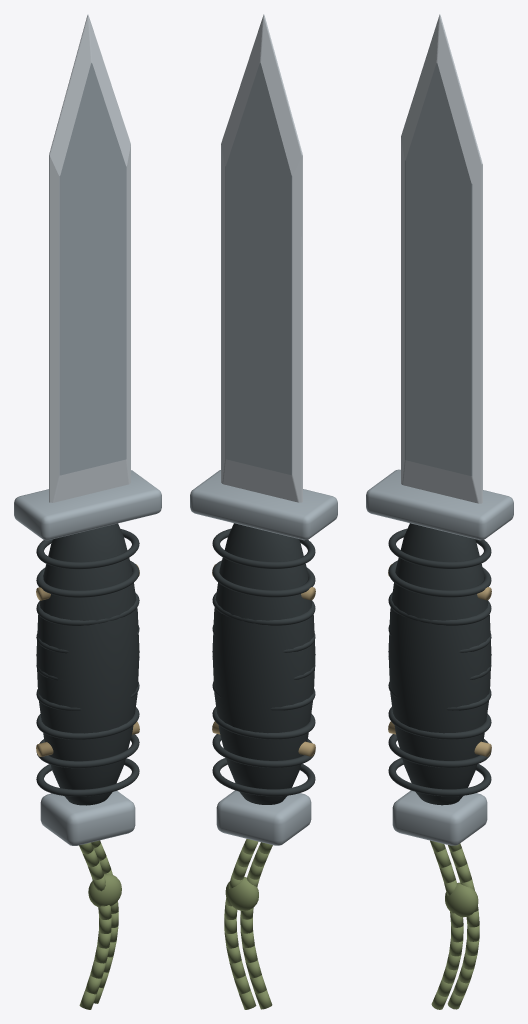
File: knife_04.glb
The picture shows the model from 3 angles, left to right: view 1: azimuth 30°, elevation 25°; view 2: azimuth 150°, elevation 25°; view 3: azimuth 330°, elevation 25°; orthographic projection.
Parts seen in each view (by area): view 1: Blade, Ergonomic handle, Full tang hand guard, Solid tang pommel, Raised nonslip grip rib, Raised nonslip grip rib.008, Raised nonslip grip rib.007, Raised nonslip grip rib.001, Raised nonslip grip rib.002, Lanyard knot, Raised nonslip grip rib.006; view 2: Blade, Ergonomic handle, Full tang hand guard, Solid tang pommel, Raised nonslip grip rib.008, Raised nonslip grip rib, Raised nonslip grip rib.007, Raised nonslip grip rib.001, Raised nonslip grip rib.002, Lanyard knot, Raised nonslip grip rib.006; view 3: Blade, Ergonomic handle, Full tang hand guard, Solid tang pommel, Raised nonslip grip rib.008, Raised nonslip grip rib, Raised nonslip grip rib.007, Raised nonslip grip rib.001, Lanyard knot, Raised nonslip grip rib.002, Raised nonslip grip rib.006.
Part boxes in pixels (x1,y1,x2,y2): Blade: (49, 14, 130, 502); Ergonomic handle: (36, 523, 139, 805); Full tang hand guard: (14, 470, 161, 540); Solid tang pommel: (40, 791, 135, 845); Raised nonslip grip rib: (36, 758, 139, 796); Raised nonslip grip rib.008: (36, 529, 139, 569); Raised nonslip grip rib.007: (36, 560, 139, 597); Raised nonslip grip rib.001: (36, 734, 139, 768); Raised nonslip grip rib.002: (36, 707, 139, 739); Lanyard knot: (88, 874, 121, 907); Raised nonslip grip rib.006: (36, 592, 139, 625); Blade: (221, 14, 302, 502); Ergonomic handle: (212, 523, 315, 804); Full tang hand guard: (190, 470, 337, 540); Solid tang pommel: (216, 790, 311, 845); Raised nonslip grip rib.008: (212, 528, 315, 568); Raised nonslip grip rib: (212, 758, 315, 796); Raised nonslip grip rib.007: (212, 560, 315, 597); Raised nonslip grip rib.001: (212, 734, 315, 767); Raised nonslip grip rib.002: (212, 707, 315, 739); Lanyard knot: (225, 877, 258, 910); Raised nonslip grip rib.006: (212, 592, 315, 625); Blade: (401, 14, 482, 503); Ergonomic handle: (388, 523, 491, 805); Full tang hand guard: (366, 469, 513, 540); Solid tang pommel: (392, 790, 487, 845); Raised nonslip grip rib.008: (388, 528, 491, 568); Raised nonslip grip rib: (388, 758, 491, 796); Raised nonslip grip rib.007: (388, 560, 491, 597); Raised nonslip grip rib.001: (388, 734, 491, 767); Lanyard knot: (445, 882, 478, 917); Raised nonslip grip rib.002: (388, 707, 491, 739); Raised nonslip grip rib.006: (388, 592, 491, 625).
Bounding box in the file's own units: 0.062 × 0.4899 × 0.04.
